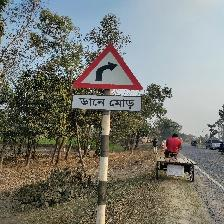Right-turn: (71, 44, 144, 112)
